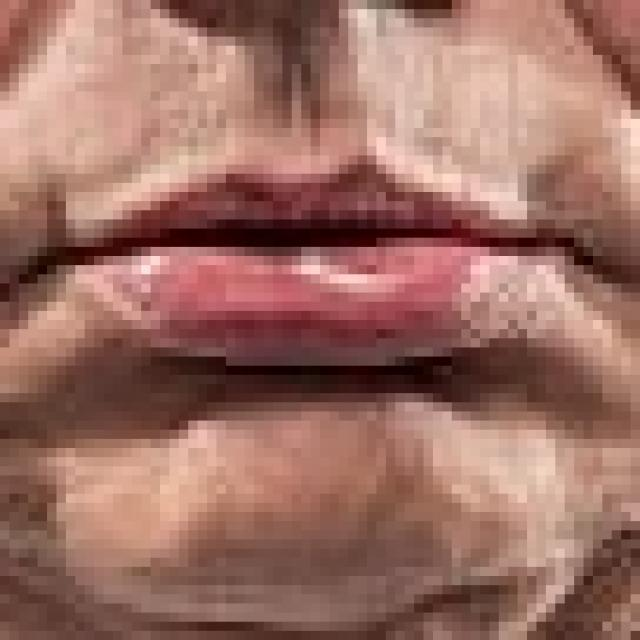closed-mouth: (28, 155, 584, 366)
